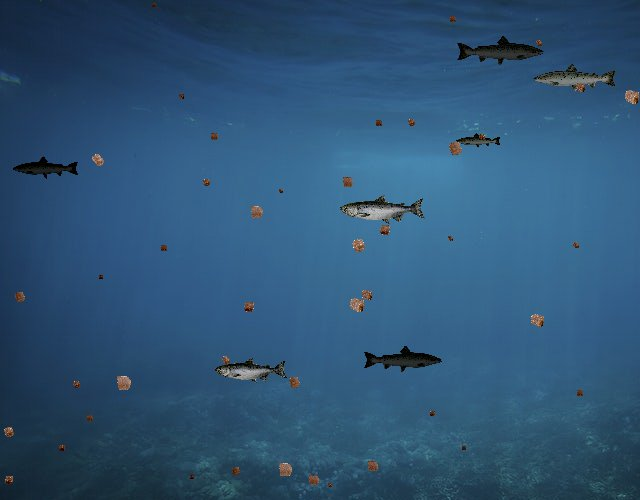Fish: (456, 35, 546, 67), (532, 62, 618, 93), (340, 194, 426, 225), (363, 344, 444, 373), (216, 358, 289, 384), (13, 156, 81, 180), (455, 132, 502, 149)
Pellet: (108, 368, 138, 398), (243, 198, 270, 225), (238, 296, 260, 318), (0, 421, 20, 443), (372, 116, 386, 130), (175, 90, 188, 103)
